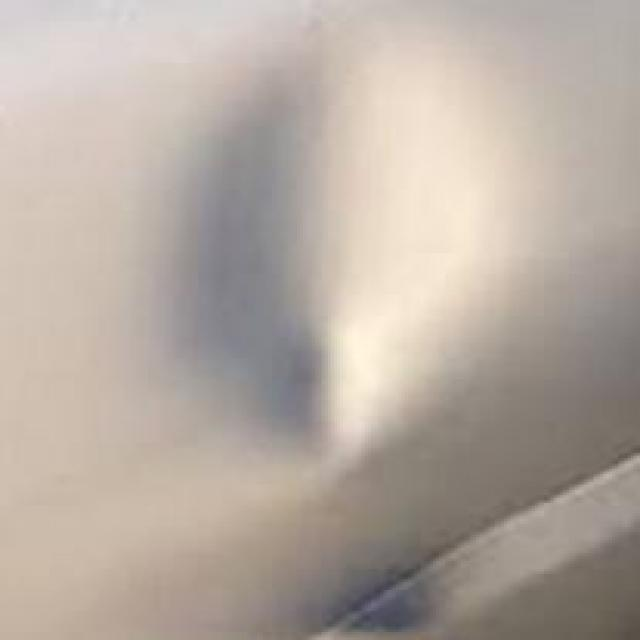dent: (147, 51, 453, 462)
